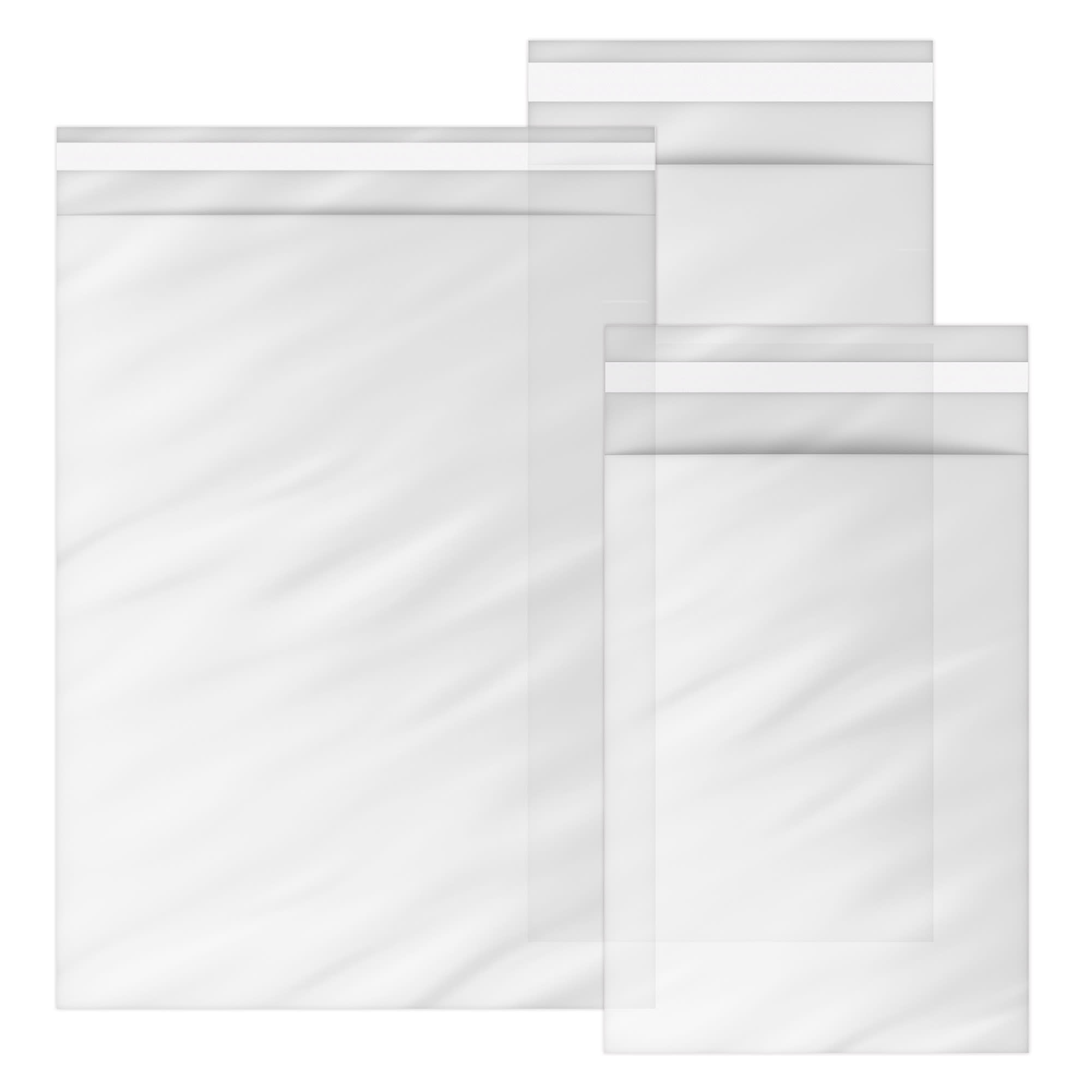Parcel: (53, 128, 654, 1009), (531, 39, 940, 943), (606, 324, 1028, 969)
